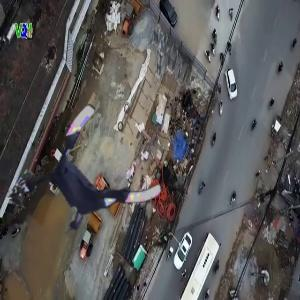drone: (32, 120, 158, 246)
